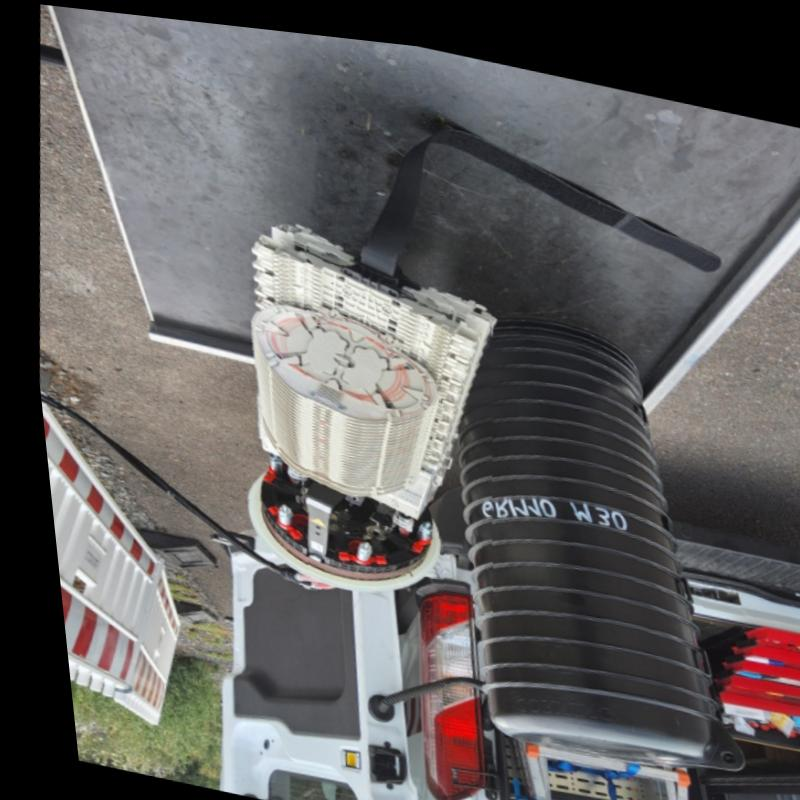NT-Muffen: (199, 211, 516, 611)
